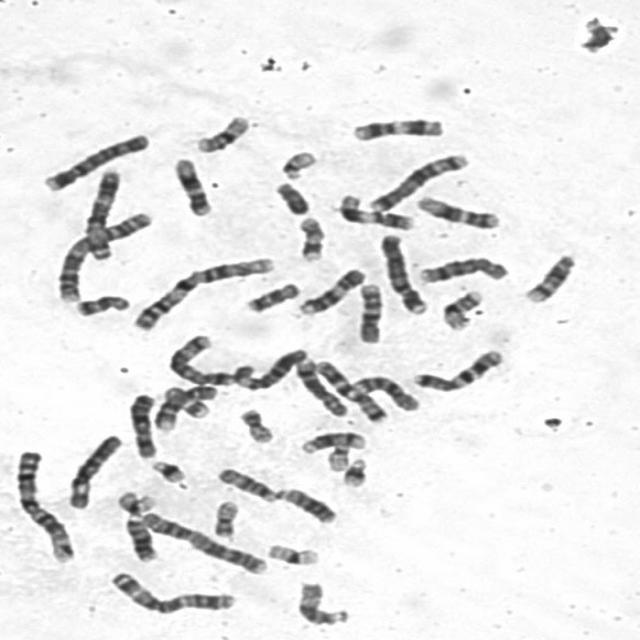A1: (126, 253, 278, 333), (10, 445, 78, 565)
A2: (51, 208, 154, 304), (134, 507, 271, 576)
A3: (103, 566, 238, 616), (80, 164, 124, 261)
B4: (36, 128, 152, 192), (374, 228, 432, 316)
B5: (362, 148, 472, 214), (162, 330, 237, 387)
C10: (347, 371, 423, 413), (352, 279, 387, 345)
C11: (332, 189, 418, 232), (346, 113, 447, 143)
C12: (411, 190, 502, 231), (167, 153, 214, 218)
C6: (62, 429, 125, 511), (228, 344, 310, 392)
C7: (308, 354, 391, 424), (408, 344, 507, 394)
C8: (291, 354, 351, 418), (412, 252, 512, 286)
C9: (293, 264, 368, 317), (150, 382, 219, 432)
D13: (273, 483, 339, 525), (119, 512, 160, 562)
D14: (519, 249, 580, 304), (296, 427, 369, 455)
D15: (291, 577, 352, 628), (211, 463, 280, 503)
E16: (190, 110, 252, 154), (436, 285, 486, 332)
E17: (154, 382, 216, 428), (292, 212, 327, 264)
E18: (240, 278, 303, 314), (70, 289, 132, 318)
F19: (261, 538, 323, 567), (111, 486, 159, 516)
F20: (234, 404, 276, 445), (207, 496, 241, 539)
G21: (144, 455, 188, 484), (337, 453, 370, 488)
G22: (276, 146, 320, 182), (322, 440, 352, 472)
X: (123, 389, 161, 460)
Y: (269, 178, 313, 216)
